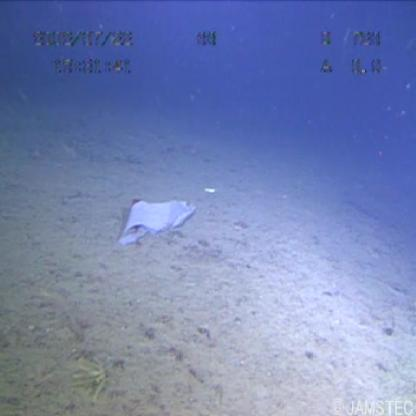Rác: (109, 186, 198, 246)
